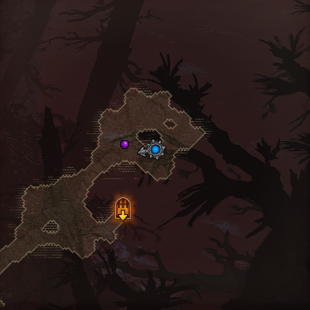Exit: (115, 194, 133, 223)
